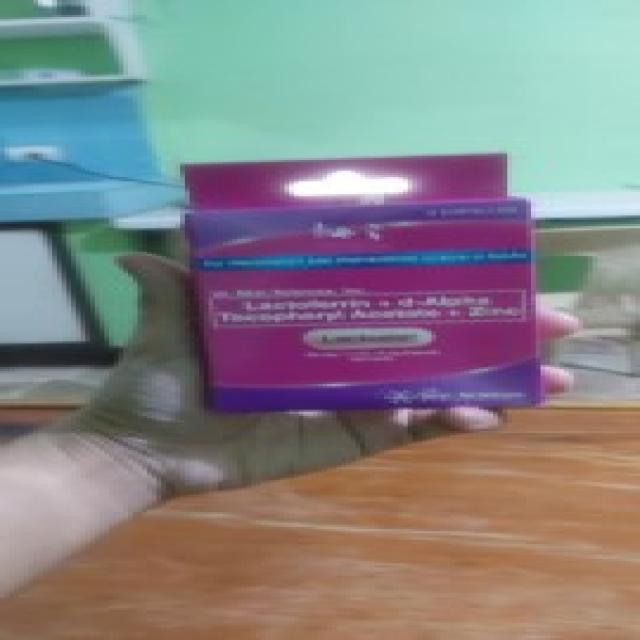Cacat: (186, 150, 526, 406)
